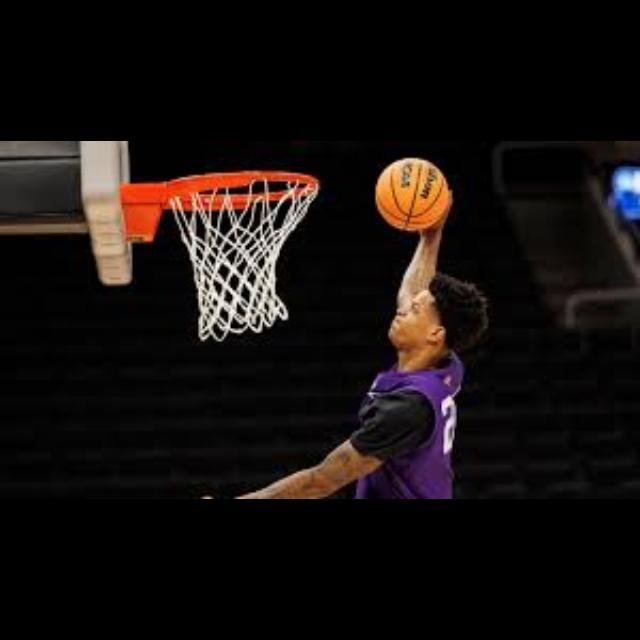basketball: (377, 158, 448, 232)
rim: (170, 170, 318, 342)
